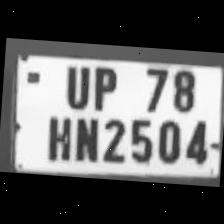0: (151, 113, 182, 164)
2: (96, 113, 127, 164)
4: (182, 113, 212, 166)
5: (124, 112, 155, 164)
7: (137, 60, 169, 114)
8: (166, 62, 198, 114)
H: (39, 110, 73, 162)
N: (68, 112, 100, 162)
P: (86, 60, 120, 110)
U: (58, 58, 92, 108)
